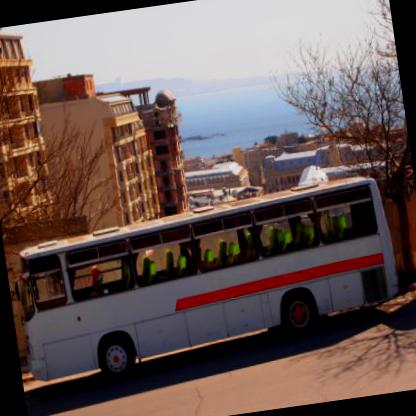bus: (3, 168, 410, 393), (400, 163, 415, 280)
